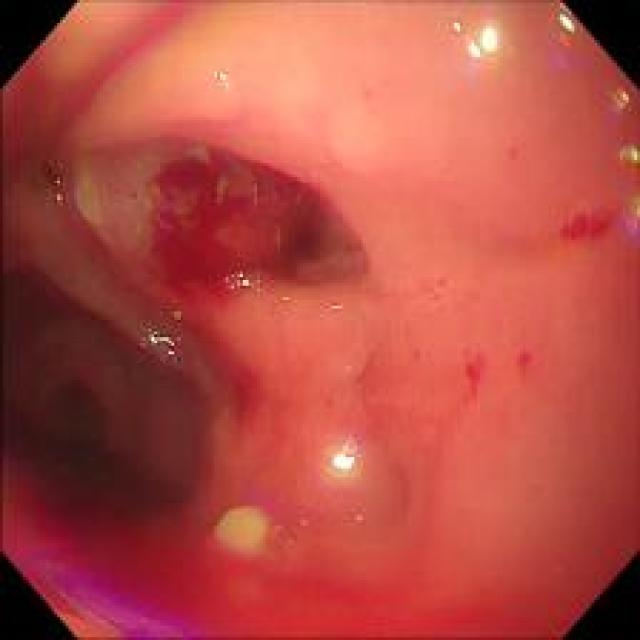blood: (146, 148, 308, 304)
color misalignment: (16, 530, 186, 638), (611, 135, 639, 264), (448, 14, 481, 74), (550, 4, 575, 76), (42, 164, 80, 206), (139, 326, 182, 360), (601, 79, 630, 111)
contrast: (8, 269, 208, 536)
specularity: (446, 11, 505, 69), (199, 58, 248, 106), (324, 441, 365, 481), (145, 329, 176, 356), (230, 268, 258, 295), (172, 309, 182, 321)
